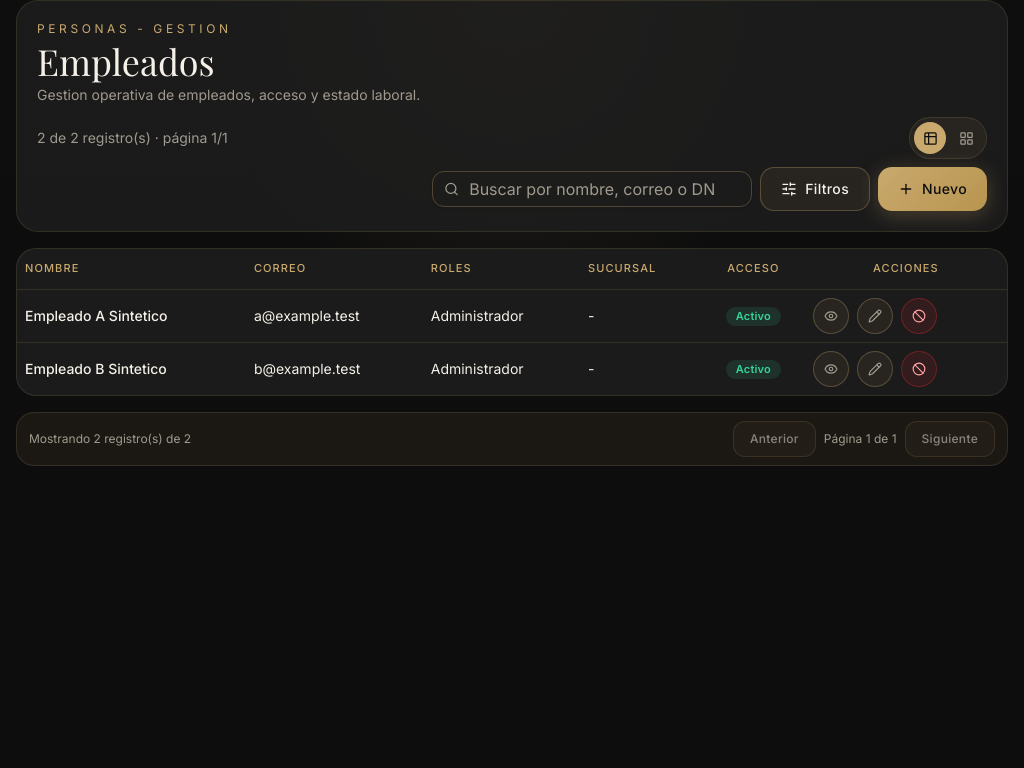
Test case: error técnico vigente se presenta como mensaje funcional seguro
The width and height of the screenshot is (1024, 768).
Click the button named "Editar" in the row of "Empleado A Sintetico" at (875, 316), box left=857, top=298, right=893, bottom=334
(page scrolled)
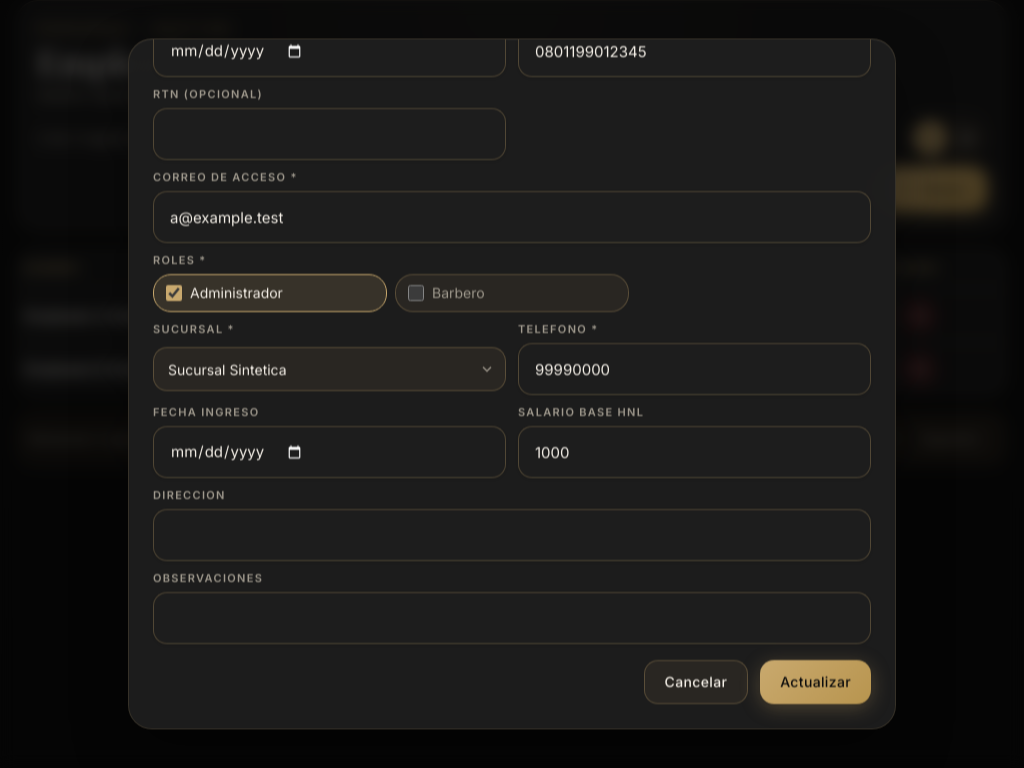
Click the button "Actualizar" at (816, 682), box left=760, top=660, right=871, bottom=704
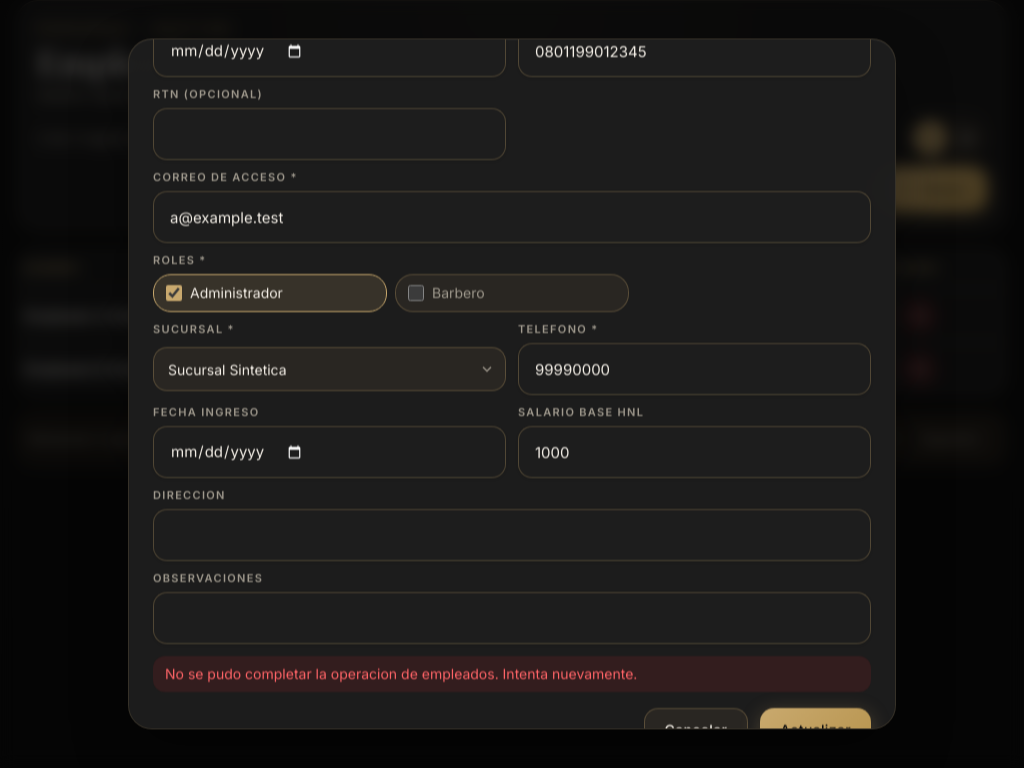
Now the text "No se pudo completar la operacion de empleados. Intenta nuevamente." is shown, box left=153, top=656, right=871, bottom=692
